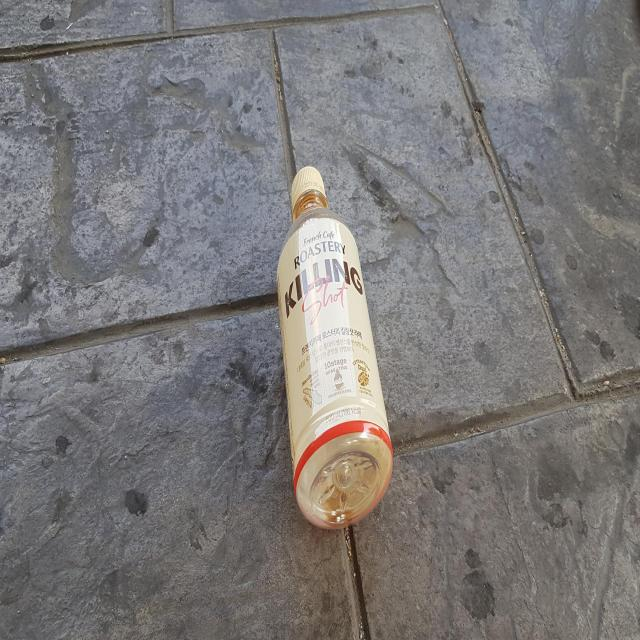plastic: (277, 165, 393, 529)
